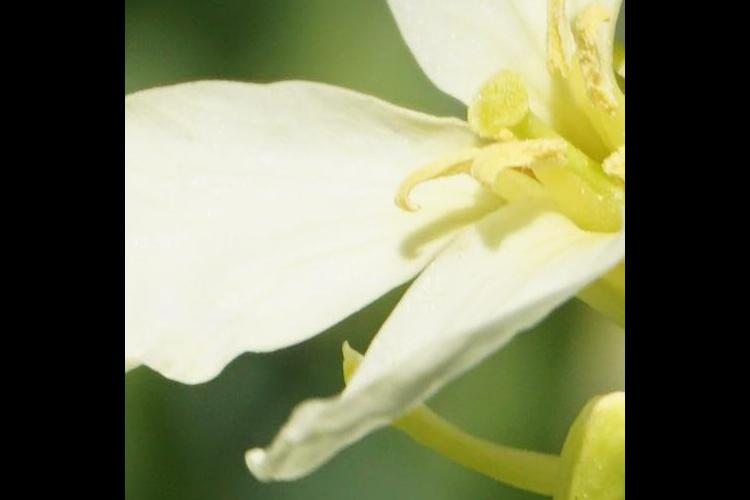white: (144, 1, 625, 484)
